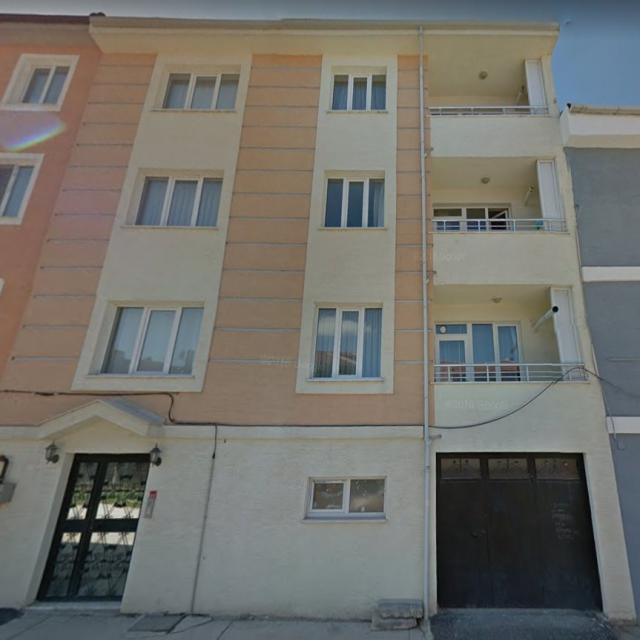Building: (0, 15, 636, 640)
